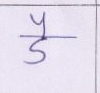ai_matra: (30, 13, 51, 36)
